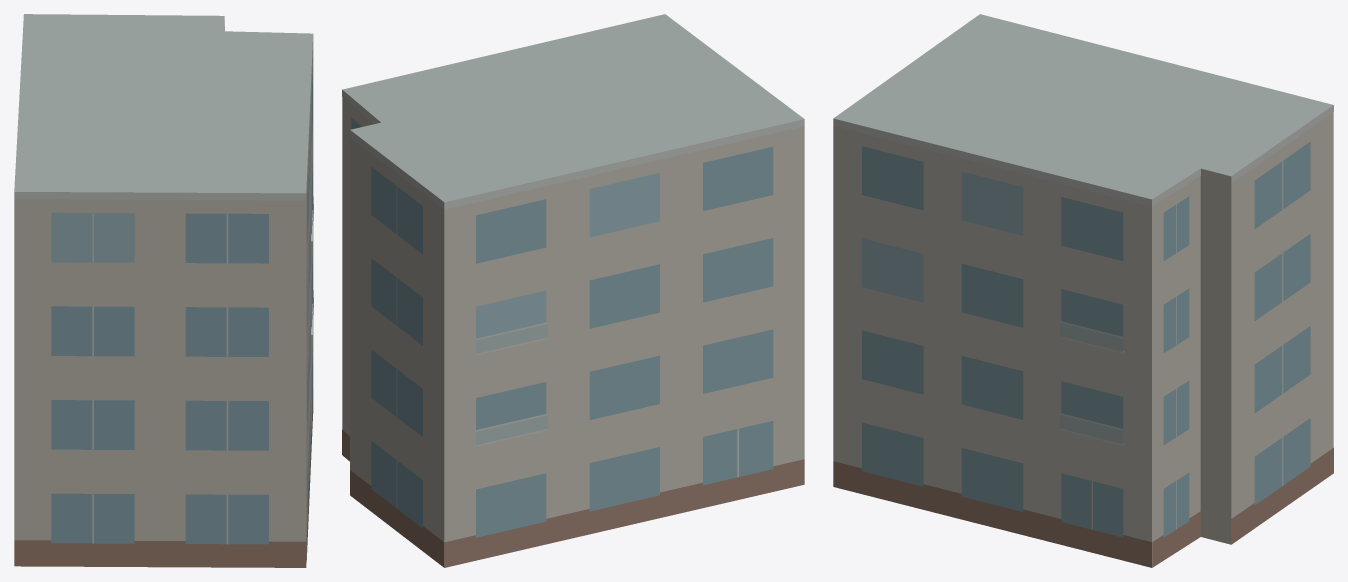
The model's file is survey-upis-32680212.glb.
3 views of the same model, side by side, from view 1: azimuth 30°, elevation 25°; view 2: azimuth 150°, elevation 25°; view 3: azimuth 270°, elevation 25° (orthographic). The views are drawn at different scales.
Visible parts, largest first — view 1: survey-upis-32680212.tmp; view 2: survey-upis-32680212.tmp; view 3: survey-upis-32680212.tmp.
Boxes of the visible parts, bbox=[...] form: survey-upis-32680212.tmp: bbox=[14, 14, 313, 567]; survey-upis-32680212.tmp: bbox=[342, 14, 804, 567]; survey-upis-32680212.tmp: bbox=[833, 14, 1333, 567].
Size of the model in its own units: 13.4 by 12.4 by 15.27.
